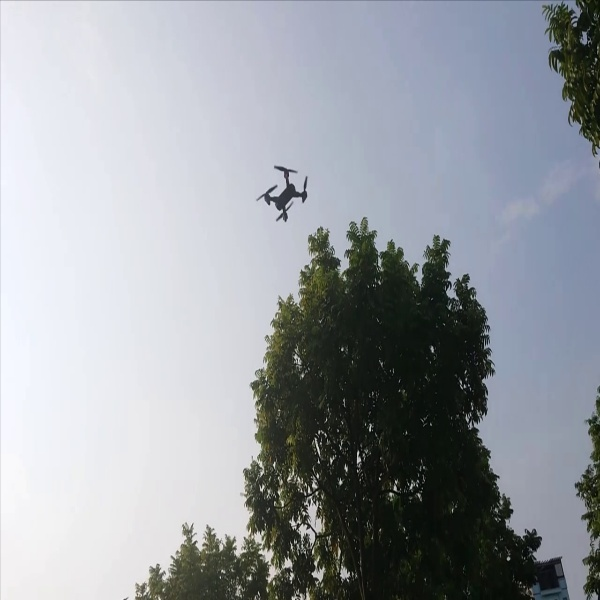drone: (252, 148, 316, 229)
